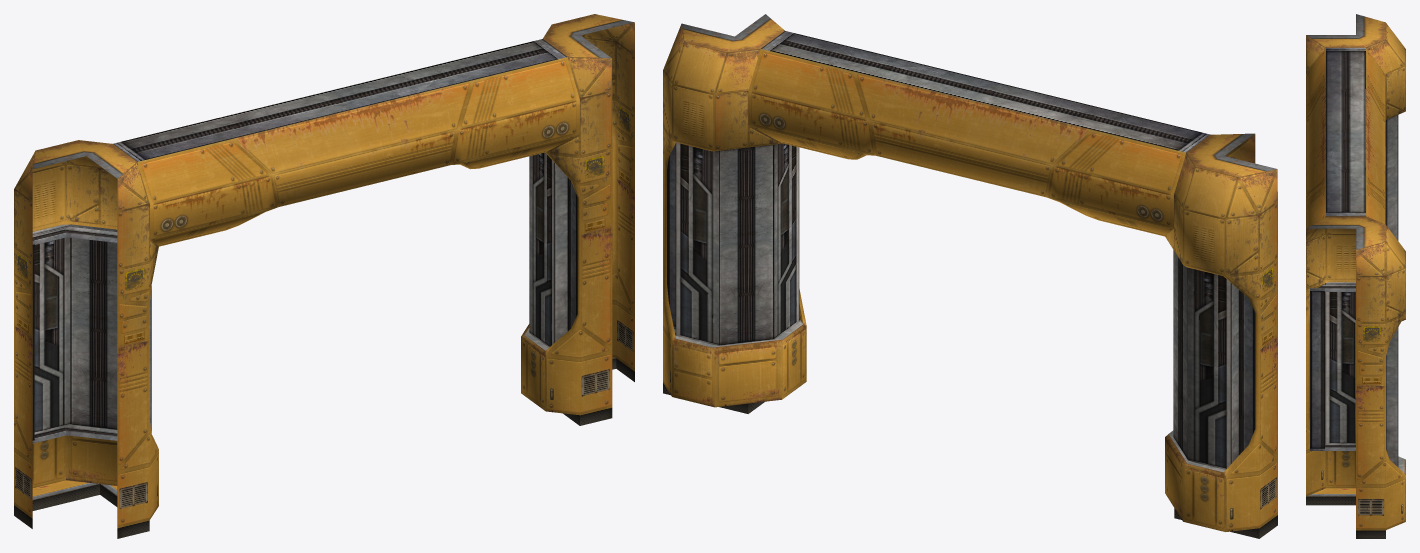
Rendered from ARC_ArchA_SideTurn04.FBX.
3 renders of one model, left to right at view 1: azimuth 30°, elevation 25°; view 2: azimuth 150°, elevation 25°; view 3: azimuth 270°, elevation 25°, orthographic. The views are drawn at different scales.
Parts seen in each view (by area): view 1: ARC_Pilar_CornerL004, ARC_Girder_Frontal007, ARC_Pilar_CornerL003; view 2: ARC_Pilar_CornerL003, ARC_Girder_Frontal007, ARC_Pilar_CornerL004; view 3: ARC_Pilar_CornerL003, ARC_Girder_Frontal007, ARC_Pilar_CornerL004.
Part boxes in pixels (left/top/right/bottom): ARC_Pilar_CornerL004: left=14, top=140, right=158, bottom=538; ARC_Girder_Frontal007: left=113, top=39, right=579, bottom=246; ARC_Pilar_CornerL003: left=521, top=14, right=634, bottom=425; ARC_Pilar_CornerL003: left=663, top=14, right=806, bottom=413; ARC_Girder_Frontal007: left=748, top=31, right=1210, bottom=236; ARC_Pilar_CornerL004: left=1165, top=133, right=1277, bottom=538; ARC_Pilar_CornerL003: left=1306, top=216, right=1405, bottom=538; ARC_Girder_Frontal007: left=1306, top=47, right=1385, bottom=228; ARC_Pilar_CornerL004: left=1306, top=14, right=1405, bottom=320.
Size of the model in its own units: 700 by 400 by 125.
1 material, 1 textured.
